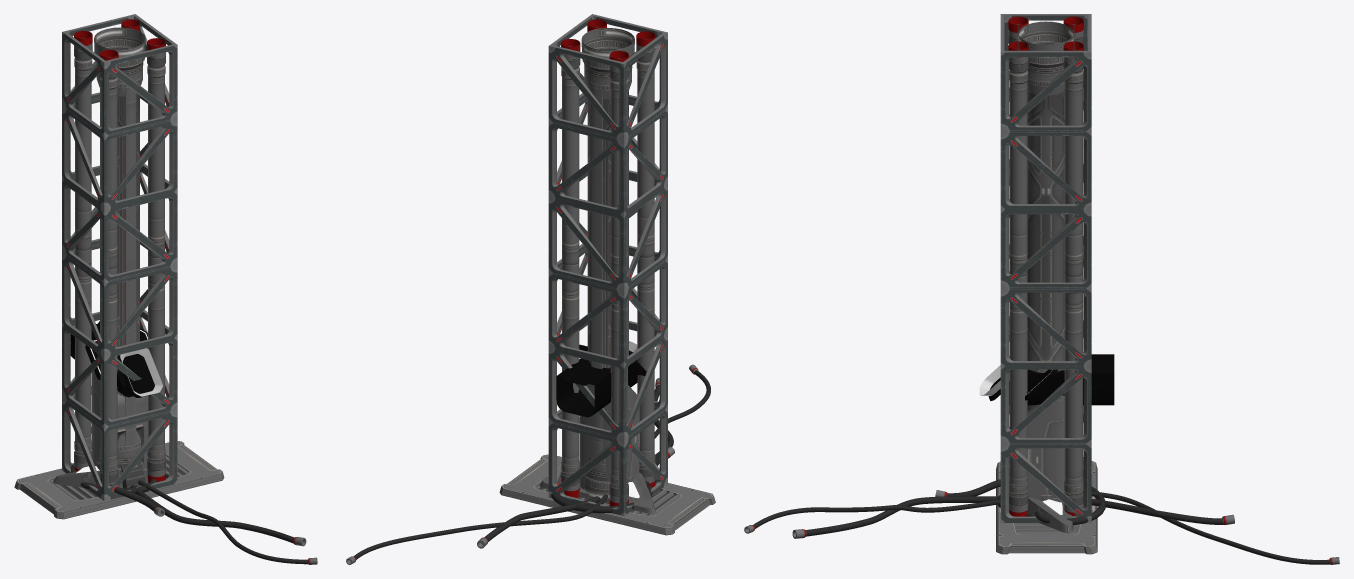
The model's file is scifi-modular.glb.
The picture shows the model from 3 angles, left to right: view 1: azimuth 30°, elevation 25°; view 2: azimuth 150°, elevation 25°; view 3: azimuth 270°, elevation 25°; orthographic projection. The views are drawn at different scales.
Parts seen in each view (by area): view 1: Column_Pipes, Prop_Vent_Big, Prop_Cable_3, Prop_Computer, Prop_AccessPoint, Prop_Light_Floor, Prop_Cable_1; view 2: Column_Pipes, Prop_Vent_Big, Prop_Cable_3, Prop_AccessPoint, Prop_Computer, Prop_Light_Floor, Prop_Cable_1; view 3: Column_Pipes, Prop_Cable_3, Prop_Vent_Big, Prop_Computer, Prop_AccessPoint, Prop_Light_Floor, Prop_Cable_1.
Boxes of the visible parts, x1=… form: Column_Pipes: x1=62, y1=14, x2=177, y2=501; Prop_Vent_Big: x1=14, y1=441, x2=224, y2=519; Prop_Cable_3: x1=91, y1=427, x2=317, y2=564; Prop_Computer: x1=85, y1=328, x2=147, y2=488; Prop_AccessPoint: x1=70, y1=321, x2=162, y2=397; Prop_Light_Floor: x1=53, y1=456, x2=165, y2=488; Prop_Cable_1: x1=70, y1=464, x2=164, y2=516; Column_Pipes: x1=548, y1=14, x2=667, y2=515; Prop_Vent_Big: x1=499, y1=454, x2=715, y2=535; Prop_Cable_3: x1=346, y1=364, x2=710, y2=564; Prop_AccessPoint: x1=556, y1=341, x2=637, y2=417; Prop_Computer: x1=579, y1=344, x2=646, y2=489; Prop_Light_Floor: x1=539, y1=472, x2=655, y2=513; Prop_Cable_1: x1=551, y1=447, x2=674, y2=513; Column_Pipes: x1=1000, y1=14, x2=1091, y2=522; Prop_Cable_3: x1=744, y1=491, x2=1339, y2=564; Prop_Vent_Big: x1=996, y1=461, x2=1097, y2=554; Prop_Computer: x1=1025, y1=369, x2=1064, y2=506; Prop_AccessPoint: x1=979, y1=354, x2=1114, y2=405; Prop_Light_Floor: x1=1027, y1=497, x2=1073, y2=533; Prop_Cable_1: x1=935, y1=479, x2=1105, y2=524.
Bounding box in the file's own units: 2.41 × 5.07 × 5.73.
Materials: 8 (5 with a texture image).
